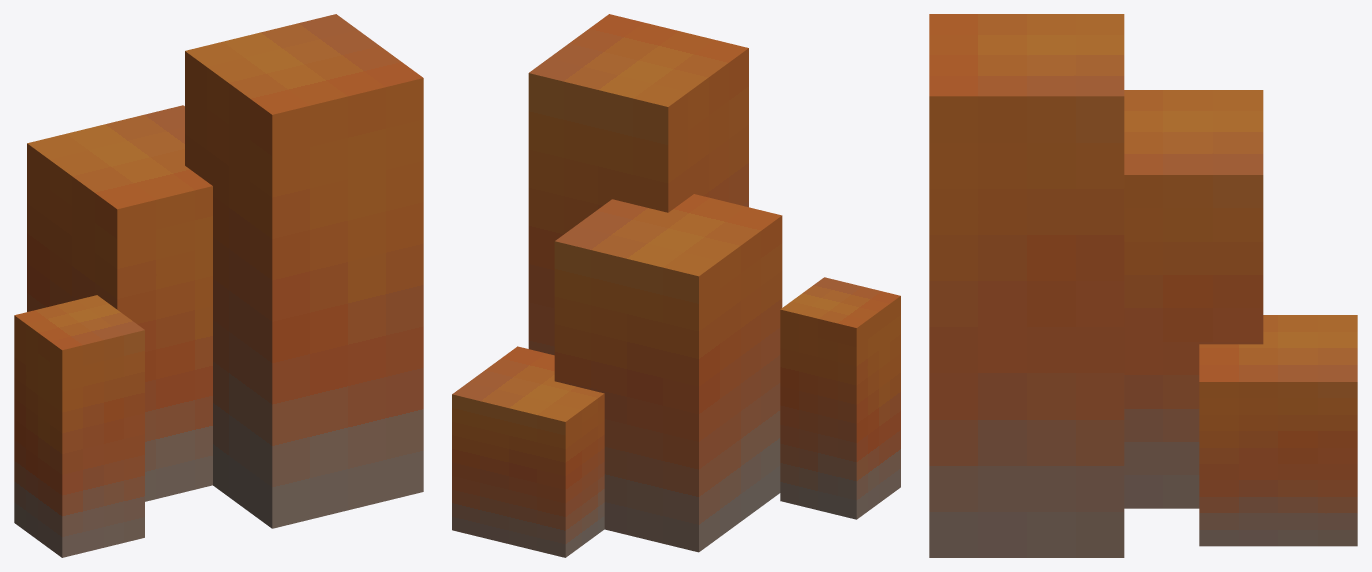
The model's file is crystal_four.obj.
3 renders of one model, left to right at view 1: azimuth 30°, elevation 25°; view 2: azimuth 150°, elevation 25°; view 3: azimuth 270°, elevation 25°, orthographic. The views are drawn at different scales.
Visible parts, largest first — view 1: Crystal5_Cube.008; view 2: Crystal5_Cube.008; view 3: Crystal5_Cube.008.
Boxes of the visible parts, x1,y1,x2,y2 form: Crystal5_Cube.008: (14, 14, 423, 557); Crystal5_Cube.008: (452, 14, 900, 557); Crystal5_Cube.008: (929, 14, 1357, 557).
Bounding box in the file's own units: 0.4231 × 0.494 × 0.4151.
